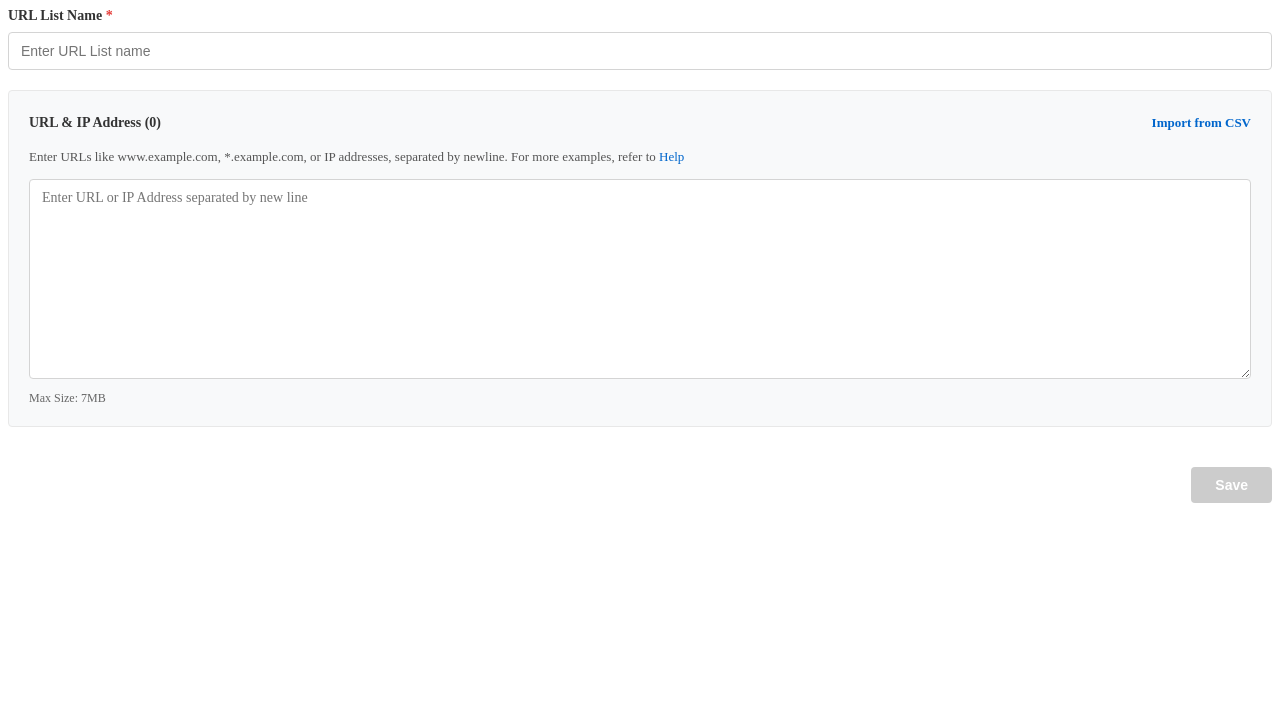
Test: UrlListsForm › enables save button when name entered
The width and height of the screenshot is (1280, 720).
Type "My List" into the field with placeholder "Enter URL List name".
click(640, 51); type("My List")  # box 8,32 -> 1272,70
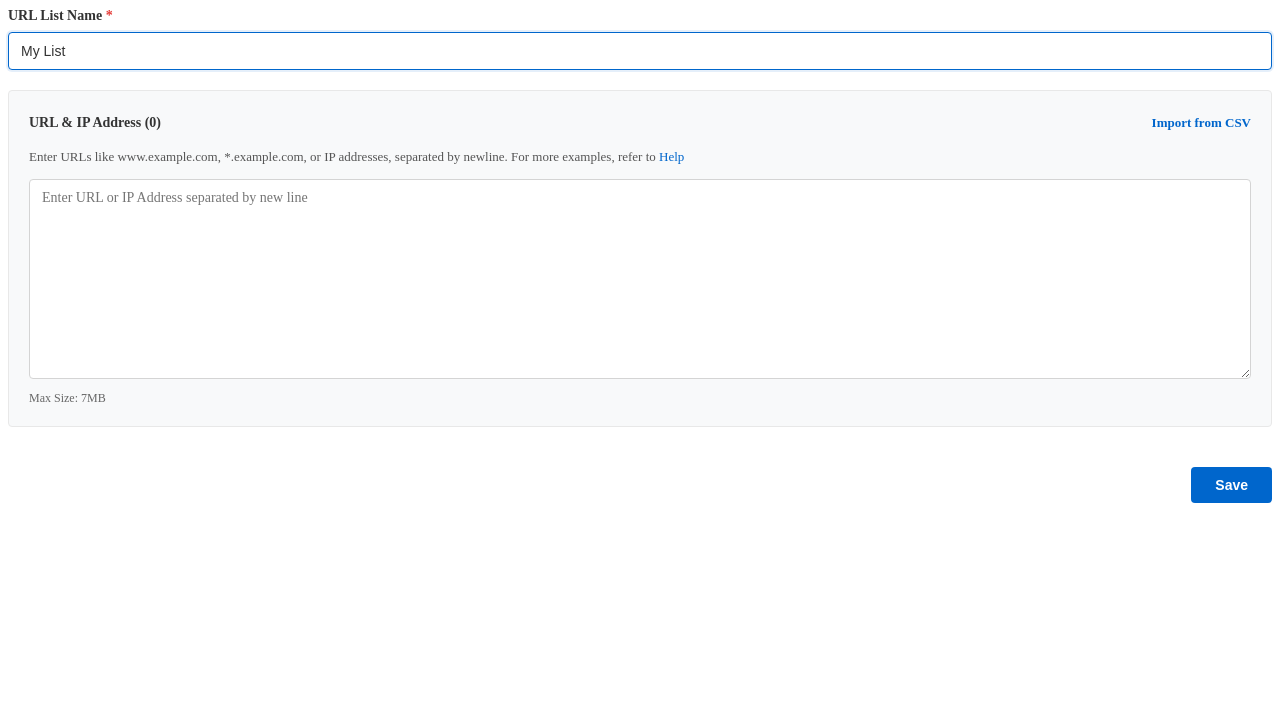
Expected: the button "Save" is enabled, 1191,466 -> 1272,502
